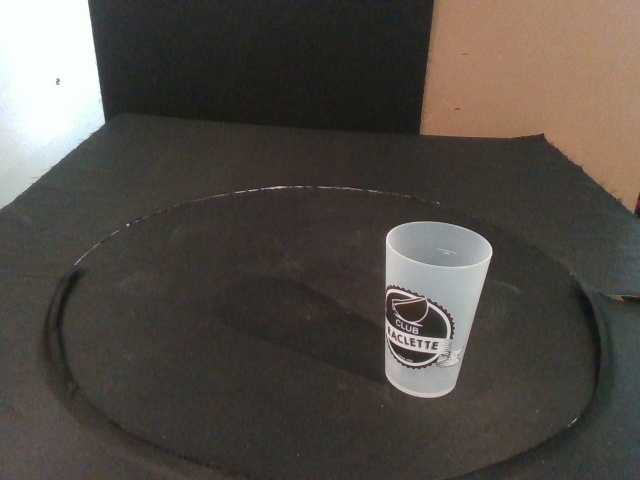glass: (385, 220, 494, 399)
